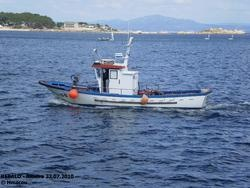otherboat: (35, 28, 213, 114)
